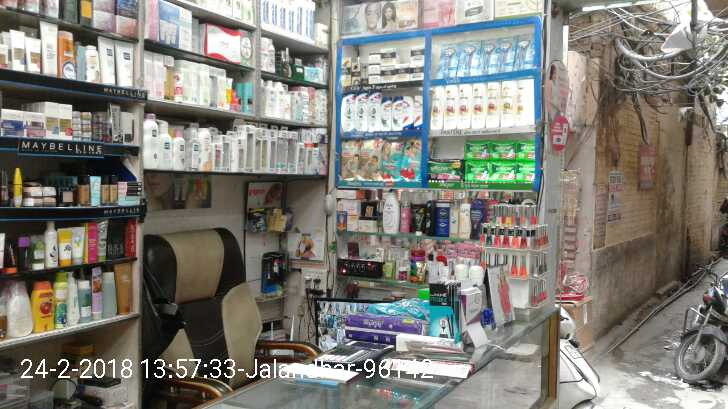venus: (514, 33, 536, 73), (459, 40, 478, 77), (481, 39, 499, 75), (441, 44, 459, 77), (499, 39, 514, 73)
